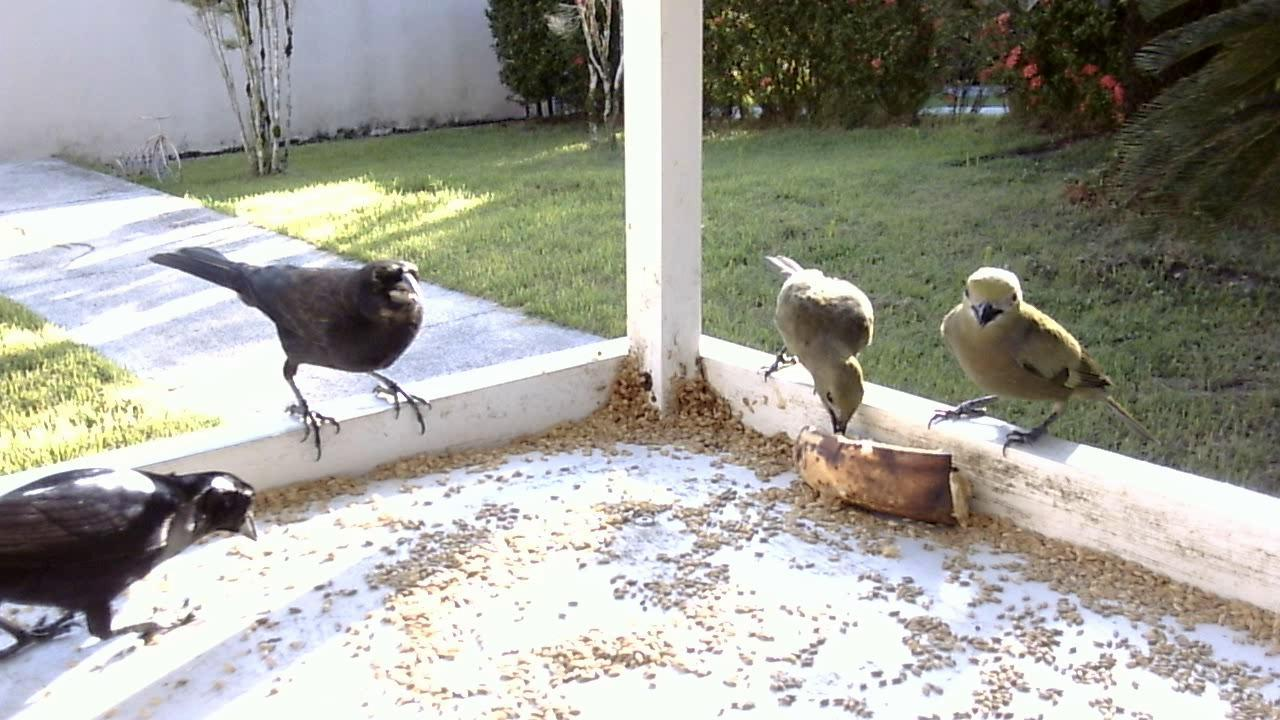chupim: (137, 226, 450, 475), (1, 445, 274, 685)
sanhaco_do_coqueiro: (922, 258, 1160, 464), (750, 253, 878, 439)
